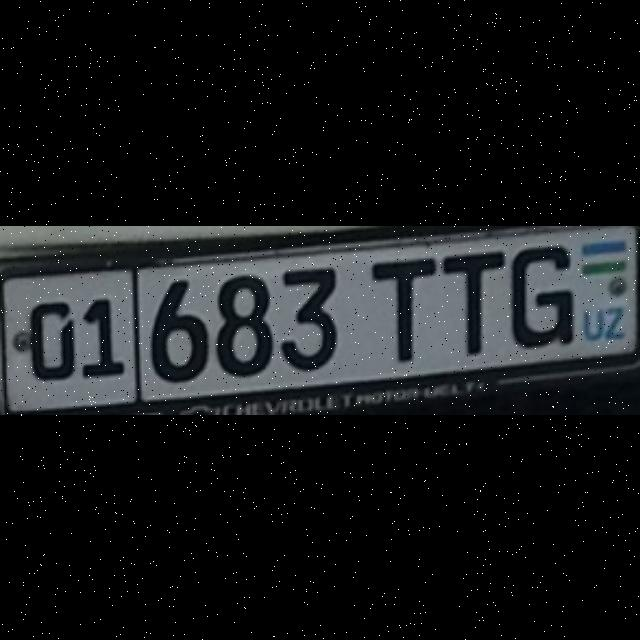0: (26, 298, 74, 379)
1: (80, 294, 121, 376)
3: (278, 264, 336, 368)
6: (148, 277, 206, 379)
8: (214, 273, 272, 373)
G: (508, 243, 572, 345)
T: (370, 256, 436, 360), (440, 249, 502, 351)
